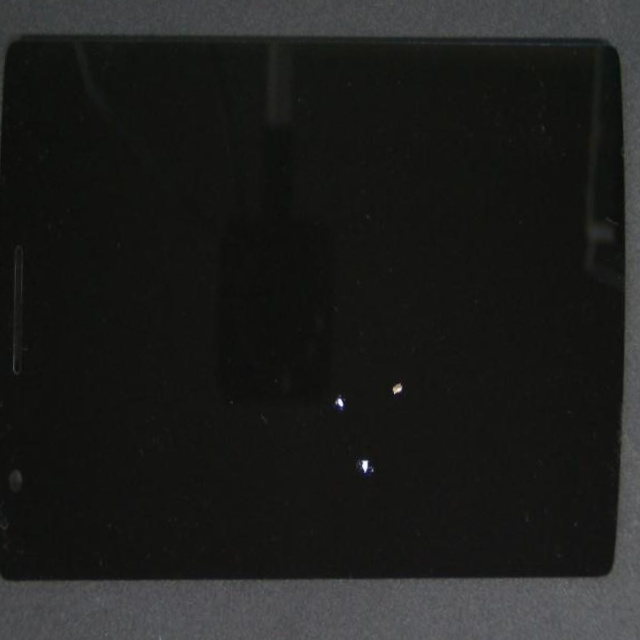stain: (192, 210, 631, 593), (187, 246, 603, 640), (175, 203, 544, 605)
